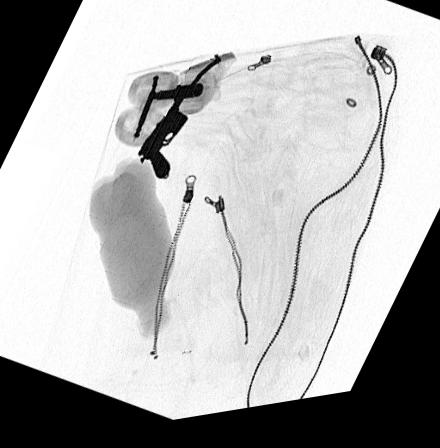Gun: (137, 59, 221, 184)
